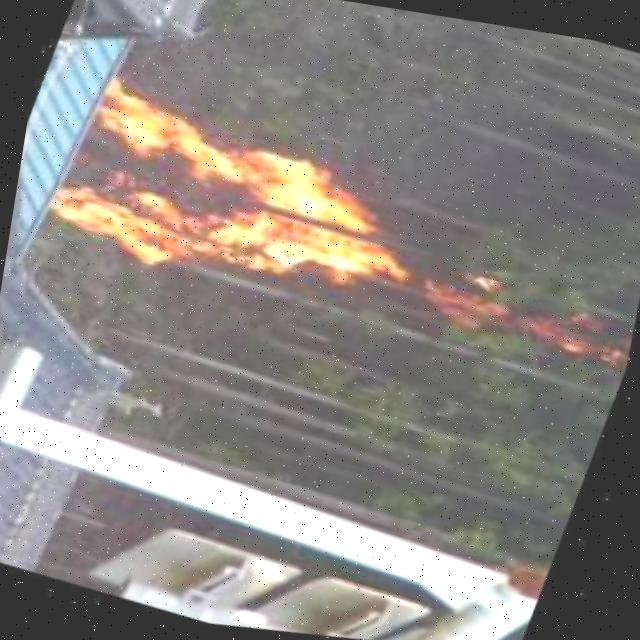fire: (28, 59, 455, 361)
